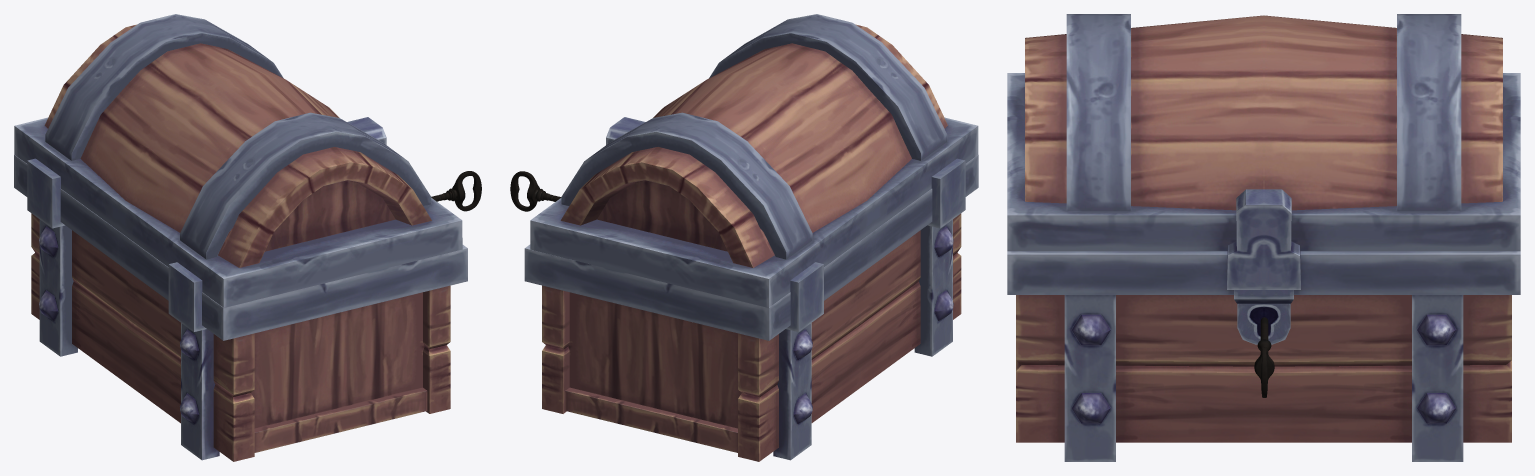
Rendered from treasure-game-chest.glb.
3 renders of one model, left to right at view 1: azimuth 30°, elevation 25°; view 2: azimuth 150°, elevation 25°; view 3: azimuth 270°, elevation 25°, orthographic. The views are drawn at different scales.
Parts seen in each view (by area): view 1: Chest_top, Chest_bottom, Key; view 2: Chest_top, Chest_bottom, Key; view 3: Chest_top, Chest_bottom, Key.
Part boxes in pixels (x1,y1,x2,y2): Chest_top: [14, 14, 462, 307]; Chest_bottom: [14, 154, 467, 461]; Key: [431, 171, 481, 211]; Chest_top: [530, 14, 978, 307]; Chest_bottom: [524, 154, 978, 461]; Key: [510, 171, 561, 211]; Chest_top: [1007, 14, 1520, 289]; Chest_bottom: [1007, 251, 1520, 461]; Key: [1254, 317, 1274, 397].
Size of what is drawn, in the model's own units: 3.66 by 2.78 by 3.57.
Materials: 2 (2 with a texture image).
